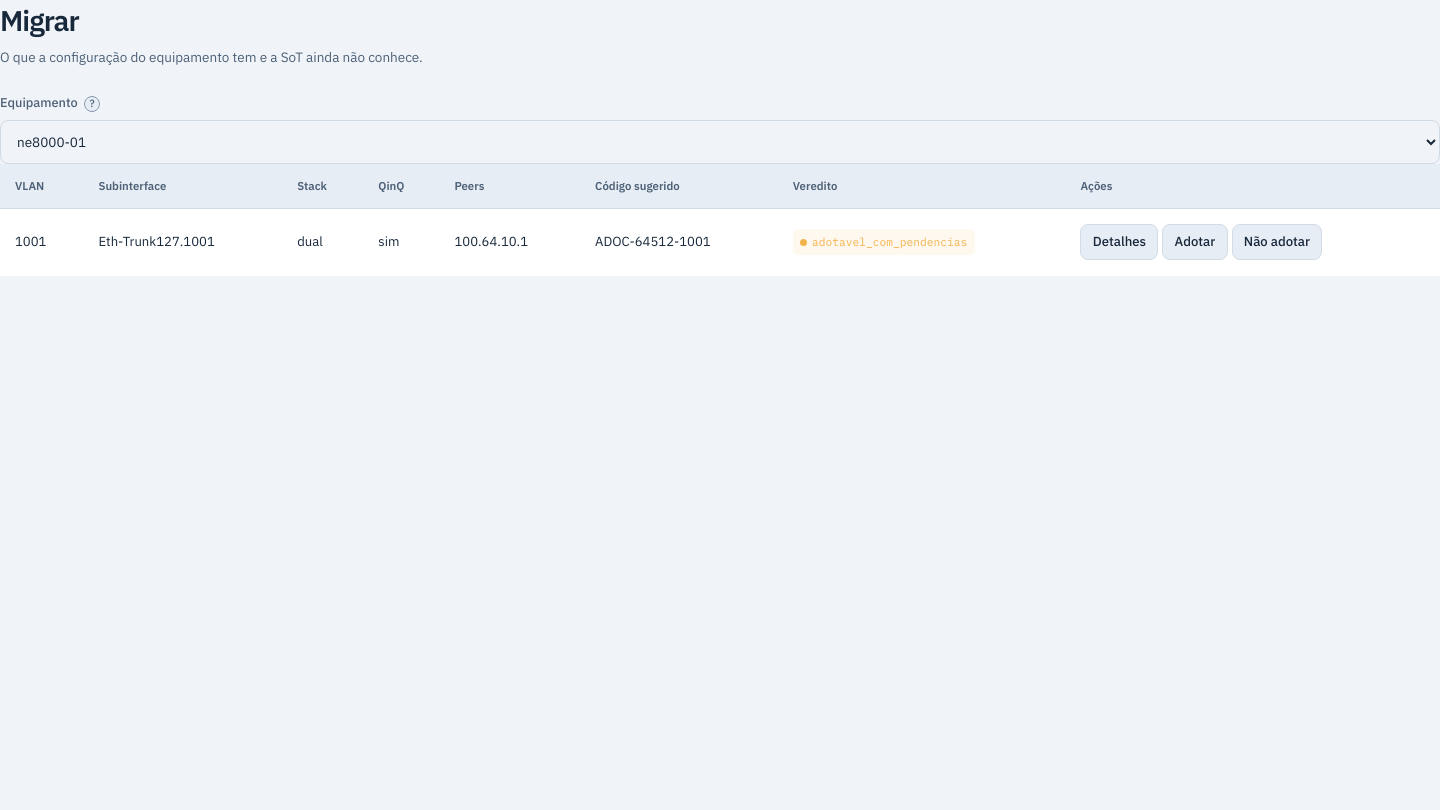
Test: Discovery › mostra a proposta com veredito, peer e pendência
Check: the text "adotavel_com_pendencias" is shown, box 793,229 -> 975,255
Check: the text "100.64.10.1" is shown, box 439,208 -> 580,276
# A pendência mora no detalhe: a lista só diz que ela existe, pelo veredito.
Click the button "Detalhes" at [1119, 242], box 1080,224 -> 1158,260
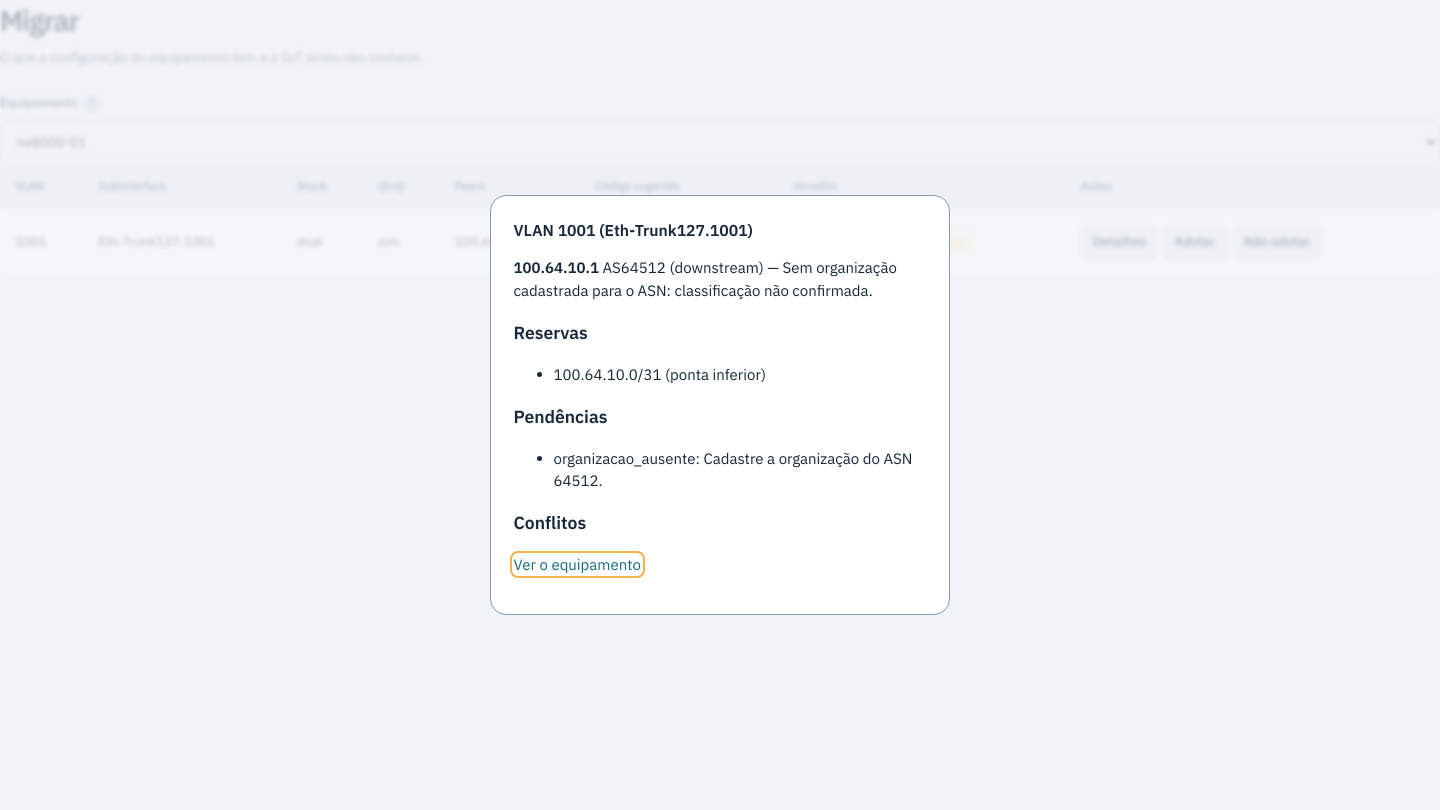
Check: the list item "organizacao_ausente: Cadastre a organização do ASN 64512." is shown, box 554,448 -> 926,492
Check: the list item "100.64.10.0/31 (ponta inferior)" is shown, box 554,365 -> 766,384
